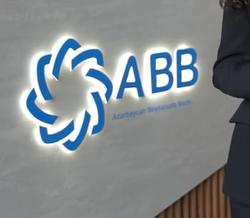ABB: (24, 36, 112, 152)
